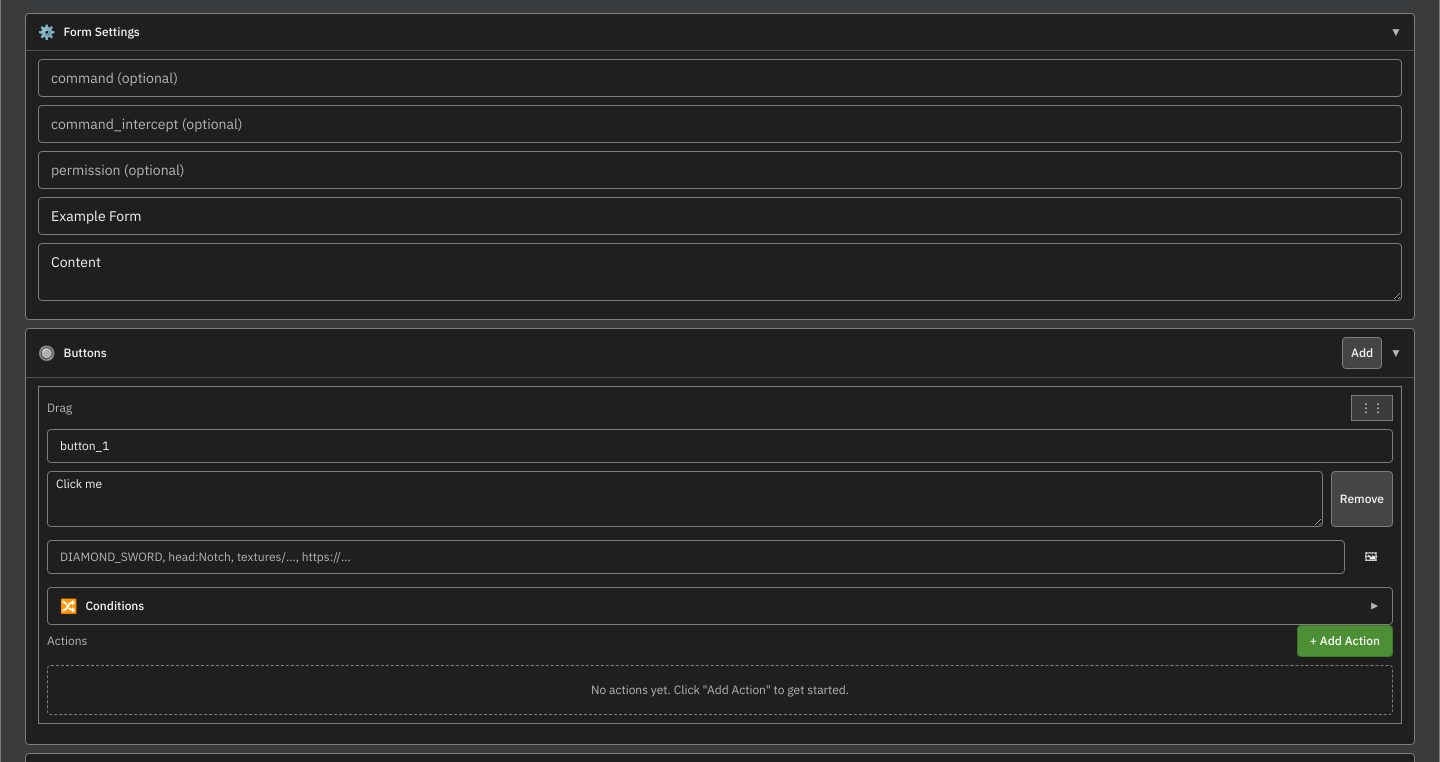
it: ui panels › labels each conditional-override property select so multiple rules stay distinguishable
What coordinates should you click on to do the following:
click the text "Conditions"
I would click on:
 (115, 606)
Its box is [86,598,144,614].
(page scrolled)
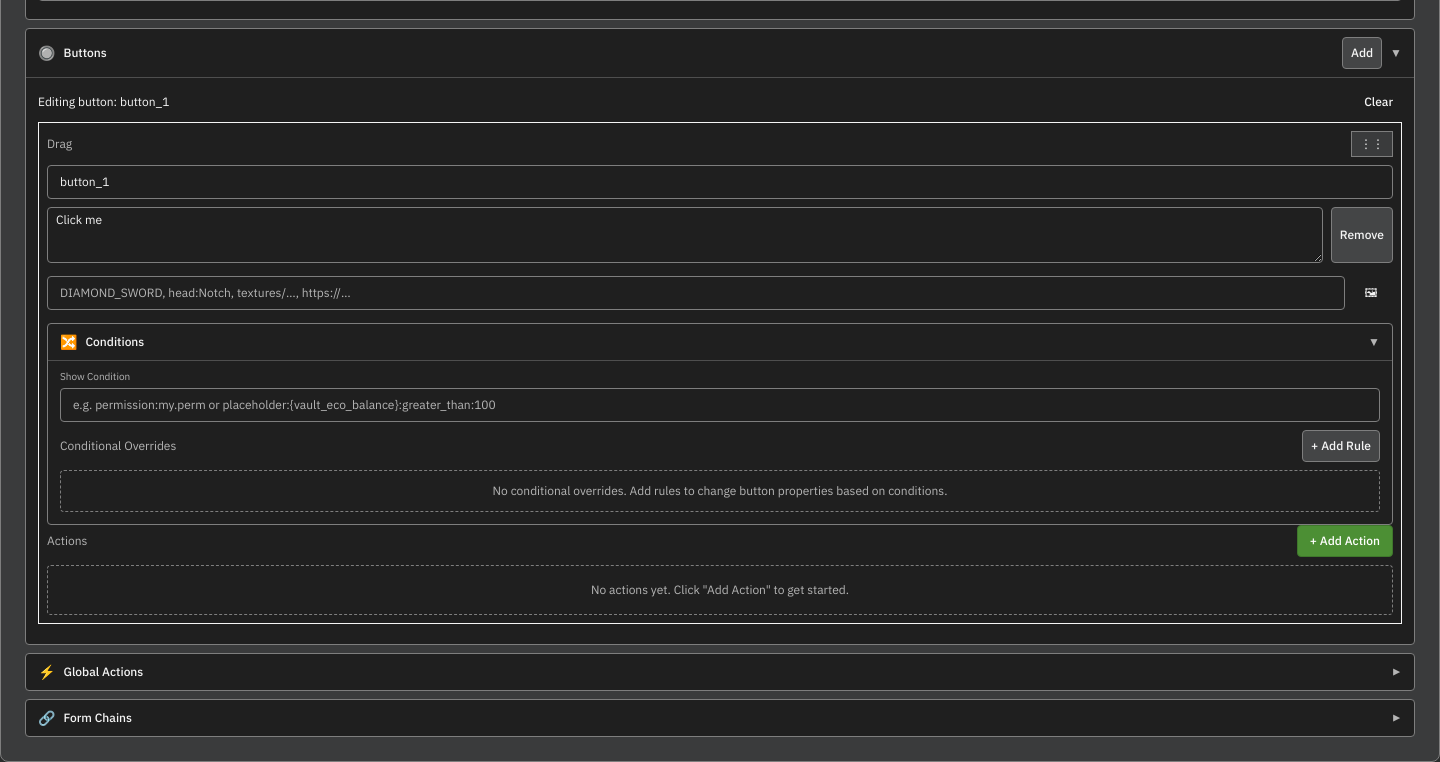
What coordinates should you click on to do the following:
click the button "+ Add Rule"
I would click on:
 (1341, 446)
Its box is [1302,430,1380,462].
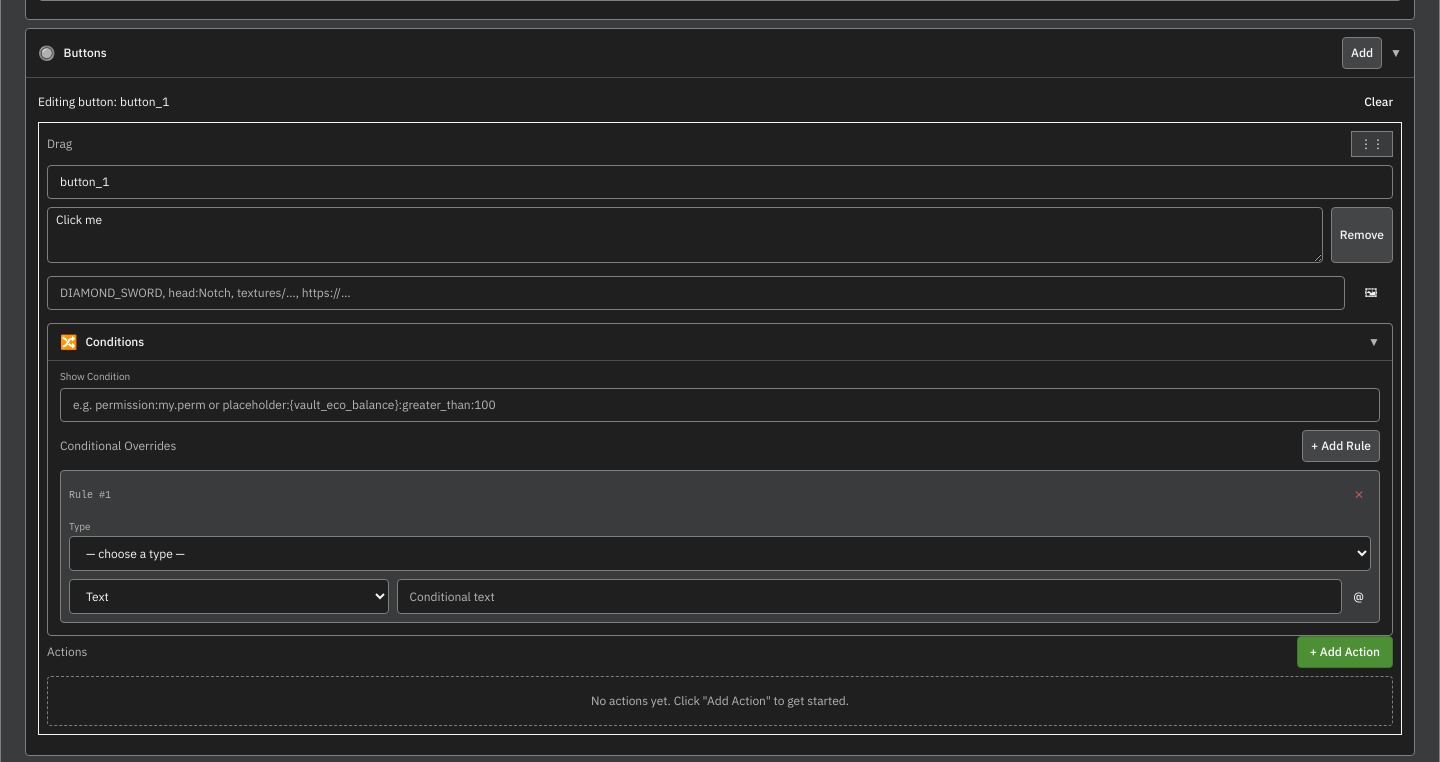
What coordinates should you click on to do the following:
click the button "+ Add Rule"
I would click on:
 (1341, 446)
Its box is [1302,430,1380,462].
(page scrolled)
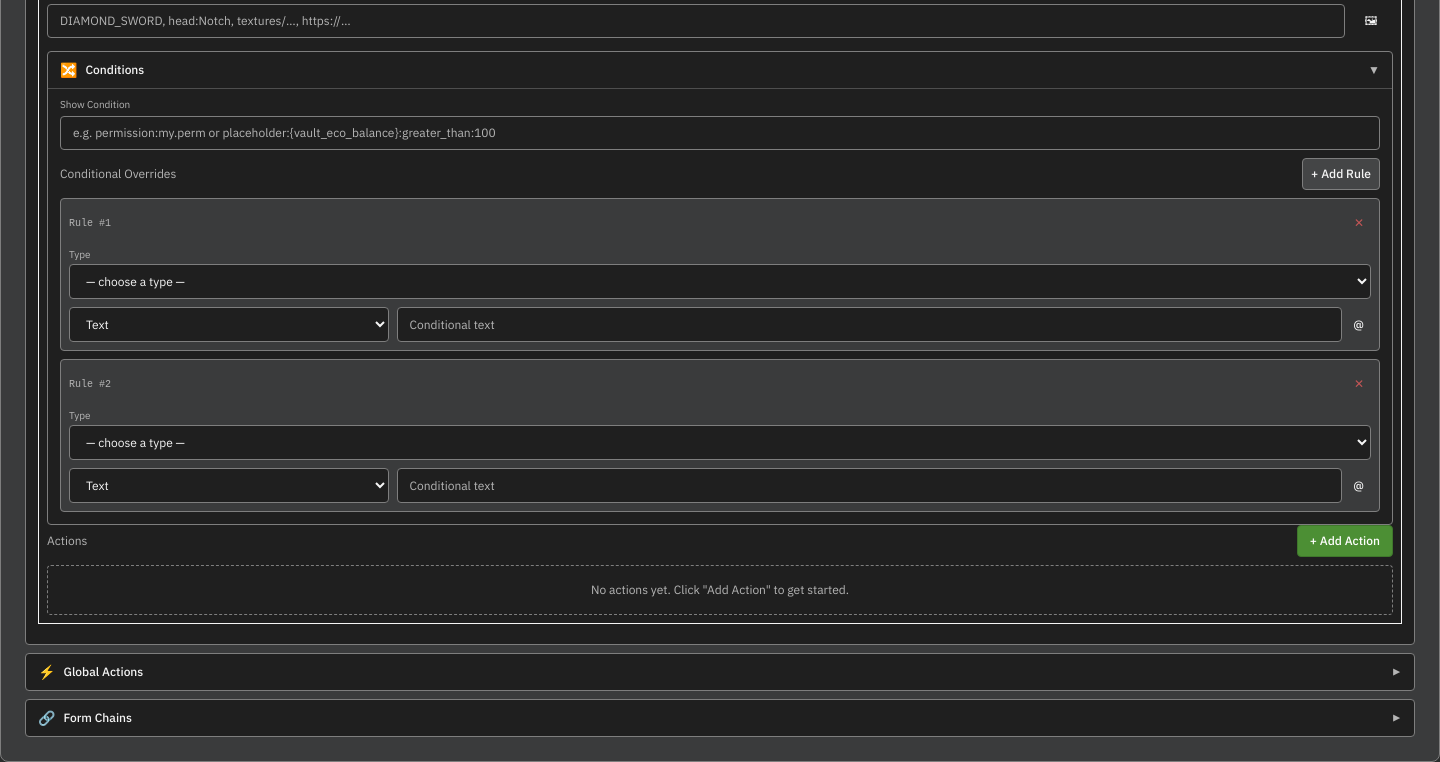
Expected: the dropdown named "rule 1 property" is shown, [69,307,388,342]
Expected: the dropdown named "rule 2 property" is shown, [69,468,388,503]
